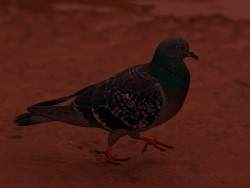pigeon: (13, 36, 201, 167)
